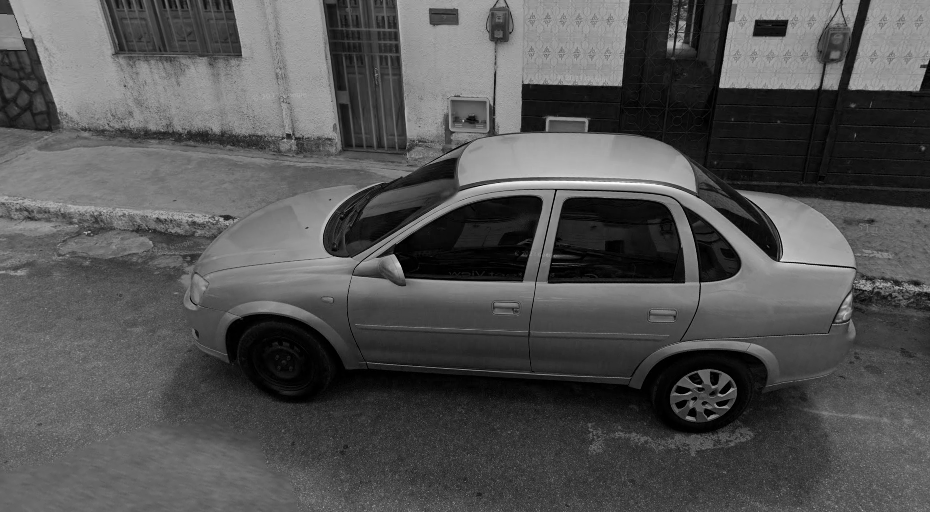car: (177, 125, 871, 438)
